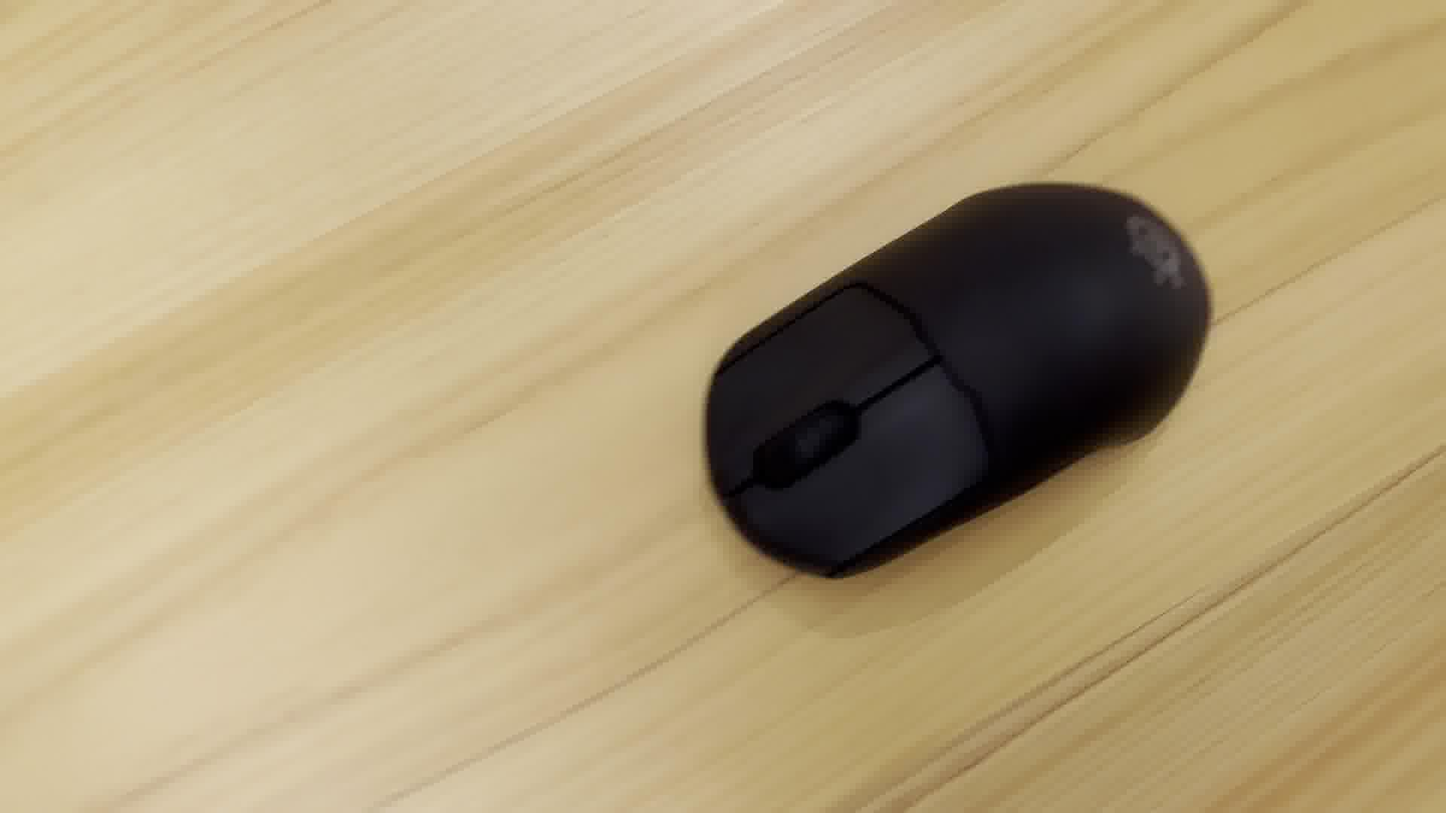steel-series: (695, 175, 1220, 588)
